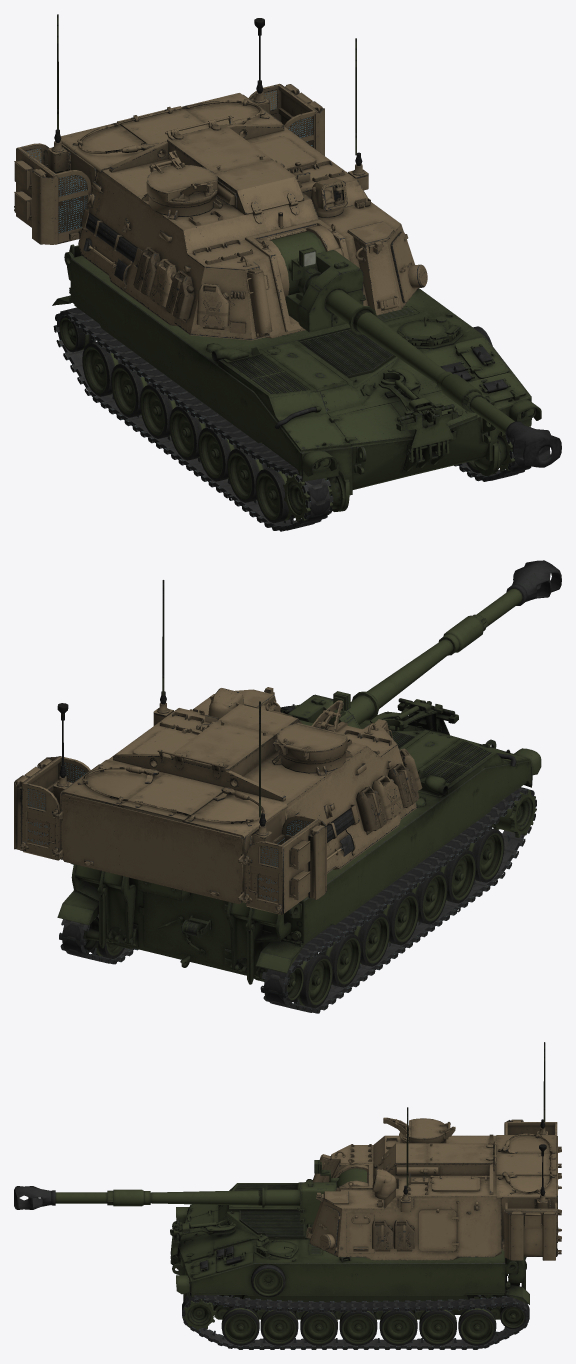
File: m109a6_paladin_self-propelled_howitzer.glb
3 renders of one model, top to bottom at view 1: azimuth 30°, elevation 25°; view 2: azimuth 150°, elevation 25°; view 3: azimuth 270°, elevation 25°, orthographic. The views are drawn at different scales.
Parts seen in each view (by area): view 1: g_turret_m109a6, hull, tread_right, g_cannonbase_m109a6_m284l52, g_cannon_m284l52, g_noeffec02_turret_m109a6, wheel11, wheel17, wheel12, wheel16, wheel15, wheel13 (+5 smaller); view 2: g_turret_m109a6, hull, tread_right, g_cannon_m284l52, g_noeffec02_turret_m109a6, g_cannonbase_m109a6_m284l52, wheel17, wheel16, wheel14, wheel15, wheel11, wheel12 (+3 smaller); view 3: g_turret_m109a6, hull, tread_left, g_cannon_m284l52, g_cannonbase_m109a6_m284l52, g_noeffec01_turret_m109a6, wheel2, wheel8, wheel7, wheel3, wheel6, wheel5 (+4 smaller).
Boxes of the visible parts, x1,y1,x2,y2 form: g_turret_m109a6: [14, 18, 427, 340]; hull: [52, 244, 541, 511]; tread_right: [53, 307, 333, 531]; g_cannonbase_m109a6_m284l52: [270, 231, 376, 334]; g_cannon_m284l52: [353, 310, 561, 467]; g_noeffec02_turret_m109a6: [133, 247, 194, 322]; wheel11: [255, 467, 294, 523]; wheel17: [82, 341, 121, 396]; wheel12: [227, 448, 268, 502]; wheel16: [111, 363, 152, 417]; wheel15: [139, 384, 178, 438]; wheel13: [198, 427, 236, 481]; g_turret_m109a6: [14, 687, 416, 914]; hull: [57, 698, 541, 984]; tread_right: [260, 787, 536, 1013]; g_cannon_m284l52: [366, 560, 561, 708]; g_noeffec02_turret_m109a6: [356, 763, 419, 834]; g_cannonbase_m109a6_m284l52: [287, 691, 379, 728]; wheel17: [293, 953, 333, 1008]; wheel16: [319, 933, 361, 987]; wheel14: [379, 892, 419, 945]; wheel15: [349, 913, 390, 966]; wheel11: [463, 828, 504, 882]; wheel12: [439, 849, 476, 903]; g_turret_m109a6: [306, 1117, 561, 1260]; hull: [170, 1179, 529, 1314]; tread_left: [182, 1295, 529, 1349]; g_cannon_m284l52: [14, 1186, 262, 1209]; g_cannonbase_m109a6_m284l52: [262, 1160, 366, 1224]; g_noeffec01_turret_m109a6: [372, 1220, 414, 1251]; wheel2: [221, 1307, 259, 1345]; wheel8: [458, 1308, 496, 1345]; wheel7: [419, 1309, 456, 1345]; wheel3: [260, 1310, 298, 1345]; wheel6: [379, 1310, 417, 1345]; wheel5: [339, 1311, 377, 1345].
Size of the model in its own units: 3.83 by 4.48 by 9.38.
7 materials, 7 textured.
